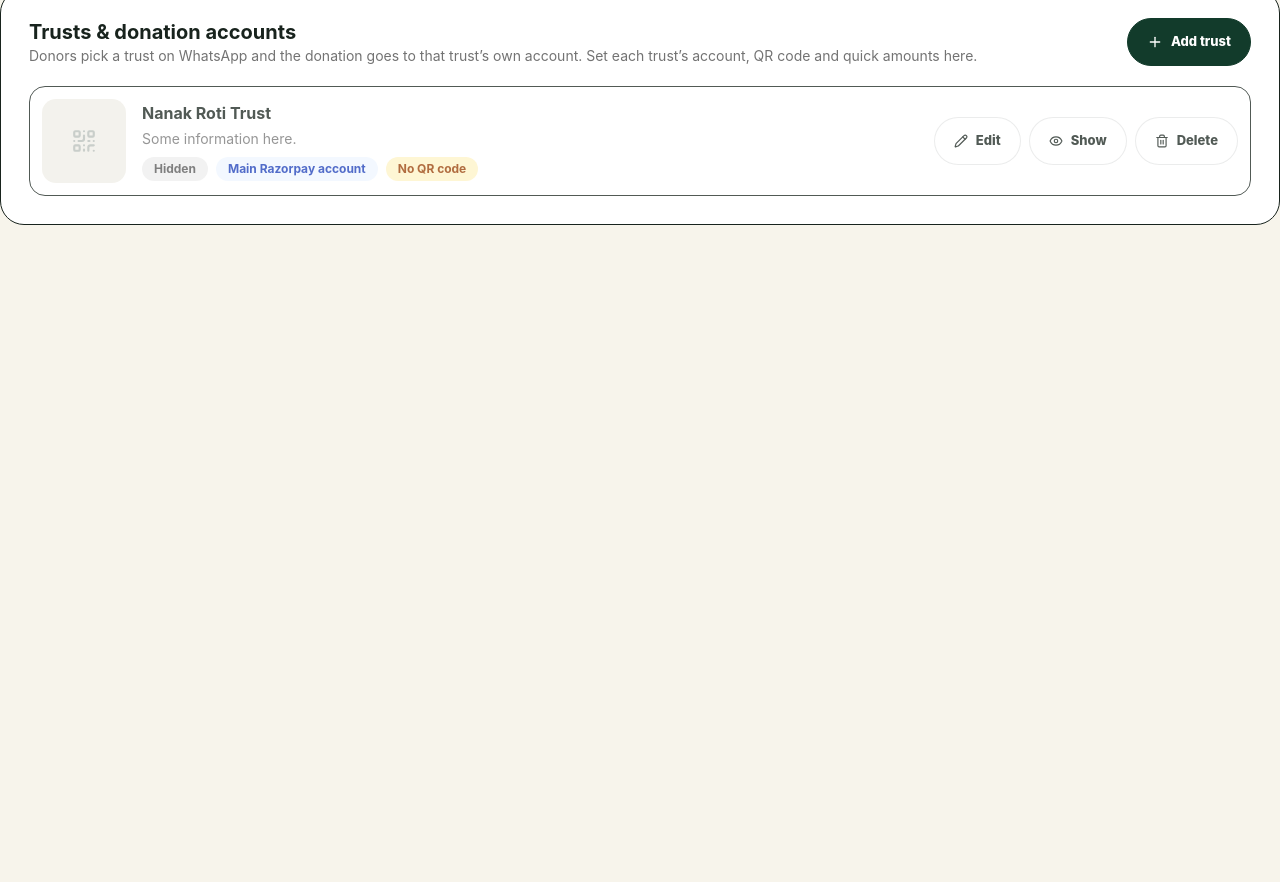
Test: TrustsAdmin (Nanak Roti Trust + donation QR) › shows the server validation message (e.g. bad UPI id) inside the form
This screenshot has width=1280, height=882.
Click the button "Edit".
click(977, 141)  # box [934,117,1021,165]
(page scrolled)
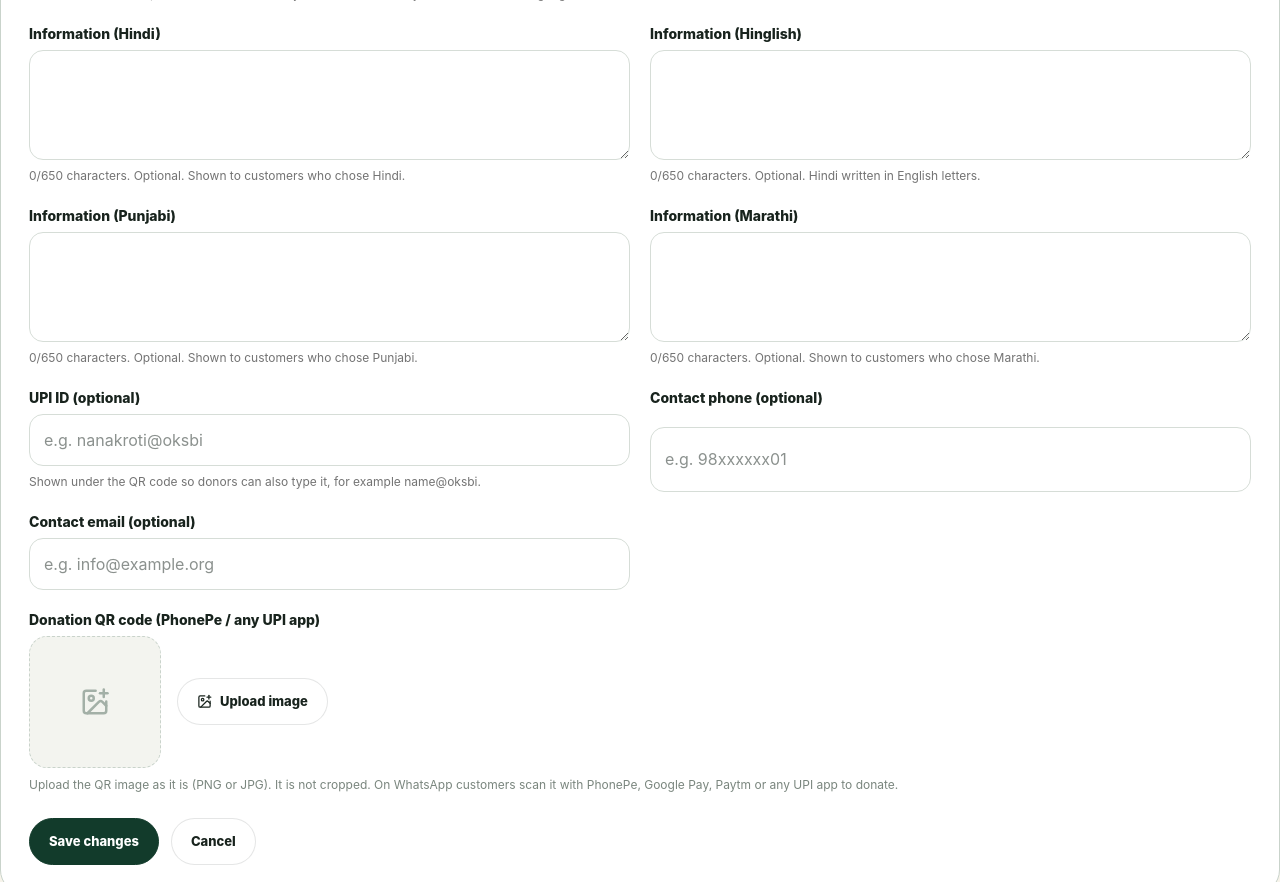
Type "bad id" into the field labelled "UPI ID (optional)".
click(330, 440); type("bad id")  # box [29,414,630,466]
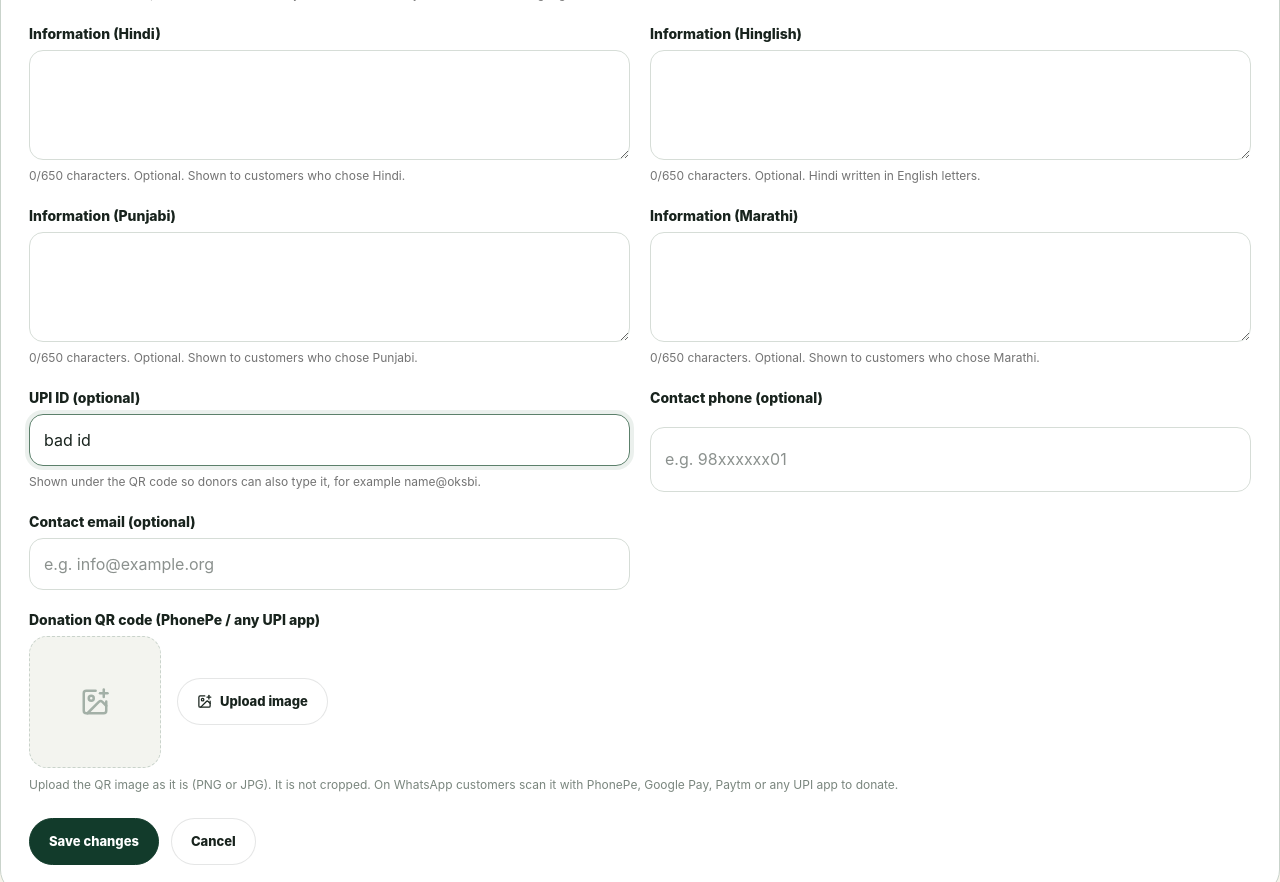
Click the button "Save changes".
click(94, 841)  # box [29,818,159,865]
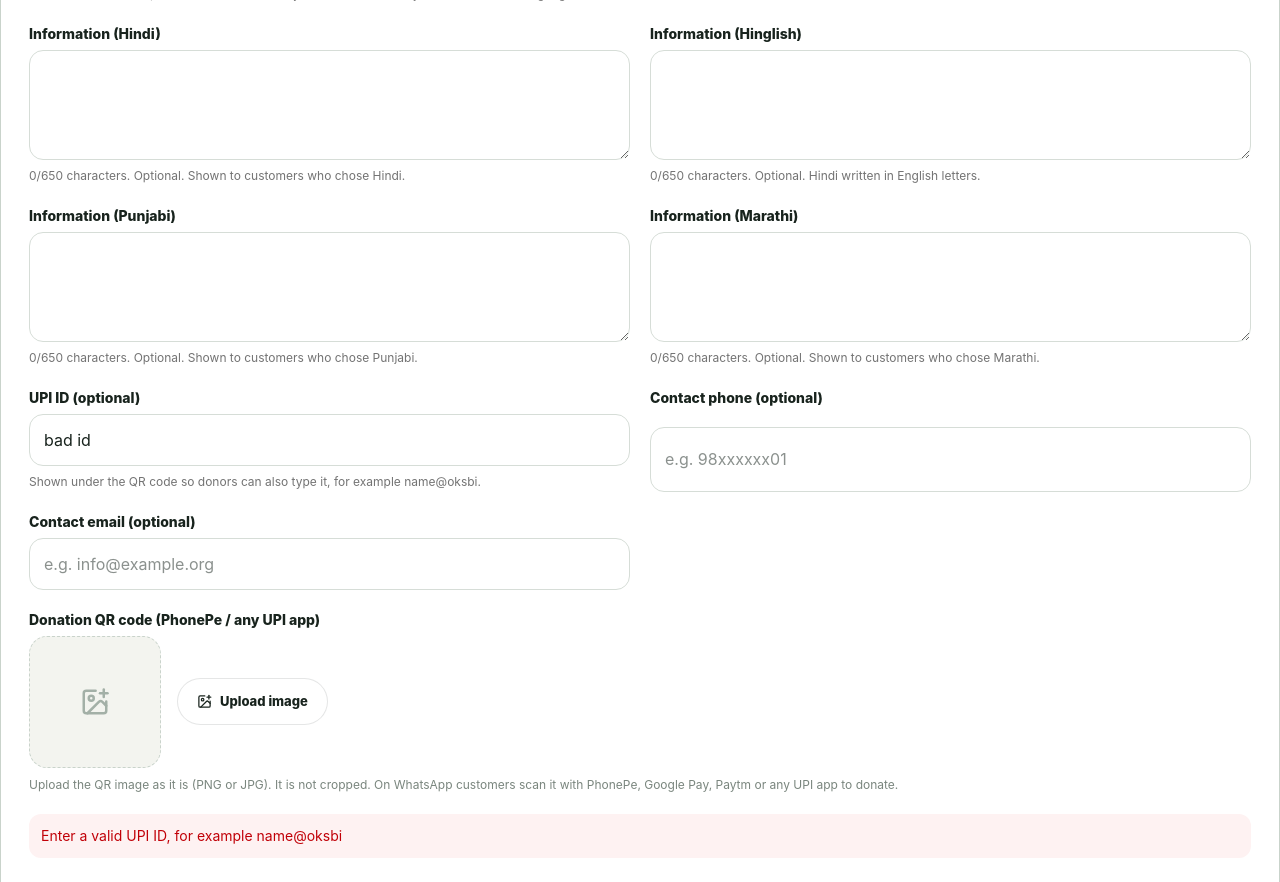
expect the message shows "valid UPI ID": met, box [41,826,342,844]
